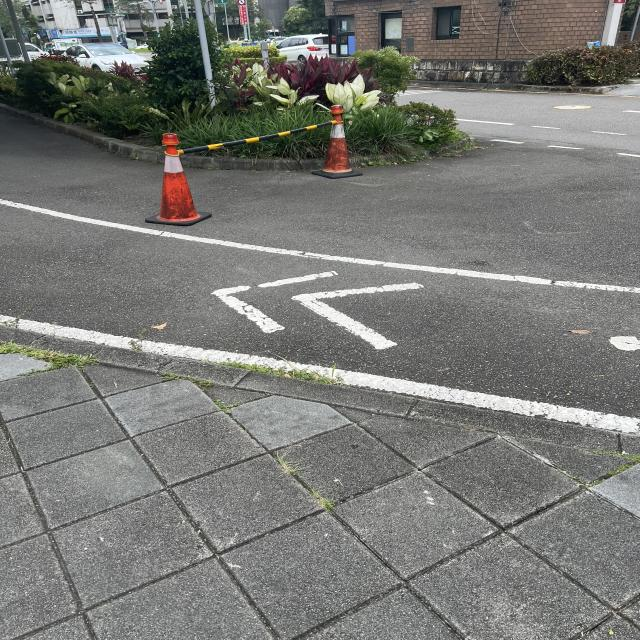cone: (129, 125, 219, 228), (311, 100, 359, 180)
